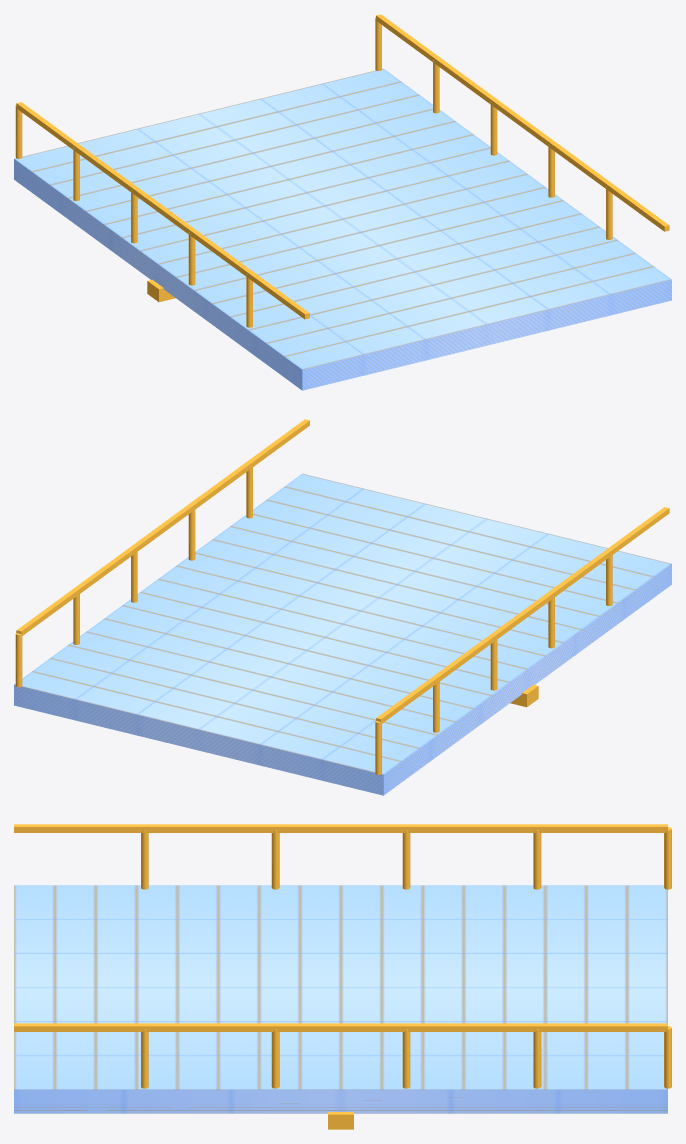
File: bridges-floor-10m.glb
The picture shows the model from 3 angles, top to bottom: view 1: azimuth 30°, elevation 25°; view 2: azimuth 150°, elevation 25°; view 3: azimuth 270°, elevation 25°; orthographic projection. The views are drawn at different scales.
Visible parts, largest first — view 1: bridges floor (10 m); view 2: bridges floor (10 m); view 3: bridges floor (10 m).
Boxes of the visible parts, bbox=[...] form: bridges floor (10 m): bbox=[14, 14, 671, 390]; bridges floor (10 m): bbox=[14, 419, 671, 795]; bridges floor (10 m): bbox=[14, 824, 671, 1129].
Bounding box in the file's own units: 7.6 × 1.68 × 10.06.
2 materials, 1 textured.
